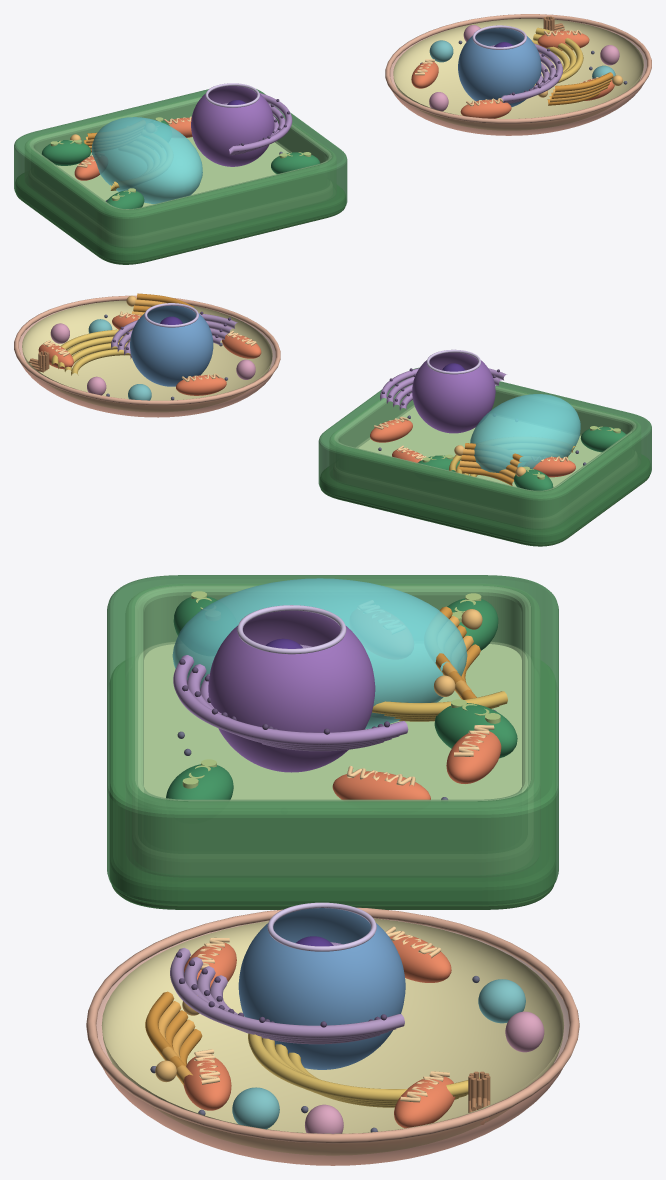
The model's file is both-cells.glb.
3 renders of one model, top to bottom at view 1: azimuth 30°, elevation 25°; view 2: azimuth 150°, elevation 25°; view 3: azimuth 270°, elevation 25°, orthographic. The views are drawn at different scales.
Parts seen in each view (by area): view 1: 植物细胞 · 细胞壁, 植物细胞 · 细胞膜, 动物细胞 · 细胞质, 植物细胞 · 中央液泡, 动物细胞 · 细胞膜, 植物细胞 · 细胞核, 动物细胞 · 细胞核, 植物细胞 · 细胞质, 植物细胞 · 叶绿体, 动物细胞 · 线粒体, 动物细胞 · 高尔基体, 动物细胞 · 粗面内质网 (+5 smaller); view 2: 植物细胞 · 细胞壁, 植物细胞 · 细胞膜, 动物细胞 · 细胞质, 植物细胞 · 中央液泡, 动物细胞 · 细胞膜, 植物细胞 · 细胞核, 动物细胞 · 细胞核, 植物细胞 · 细胞质, 动物细胞 · 线粒体, 植物细胞 · 叶绿体, 植物细胞 · 线粒体, 动物细胞 · 光面内质网 (+6 smaller); view 3: 植物细胞 · 细胞壁, 植物细胞 · 细胞膜, 动物细胞 · 细胞质, 植物细胞 · 细胞质, 动物细胞 · 细胞膜, 植物细胞 · 细胞核, 动物细胞 · 细胞核, 植物细胞 · 中央液泡, 动物细胞 · 线粒体, 植物细胞 · 叶绿体, 动物细胞 · 粗面内质网, 植物细胞 · 粗面内质网 (+8 smaller).
Boxes of the visible parts, bbox=[...] form: 植物细胞 · 细胞壁: bbox=[14, 89, 347, 264]; 植物细胞 · 细胞膜: bbox=[25, 96, 336, 247]; 动物细胞 · 细胞质: bbox=[393, 18, 643, 130]; 植物细胞 · 中央液泡: bbox=[91, 117, 202, 203]; 动物细胞 · 细胞膜: bbox=[385, 14, 651, 135]; 植物细胞 · 细胞核: bbox=[191, 83, 274, 166]; 动物细胞 · 细胞核: bbox=[458, 25, 541, 107]; 植物细胞 · 细胞质: bbox=[56, 137, 291, 206]; 植物细胞 · 叶绿体: bbox=[41, 117, 320, 208]; 动物细胞 · 线粒体: bbox=[411, 30, 614, 118]; 动物细胞 · 高尔基体: bbox=[538, 72, 622, 105]; 动物细胞 · 粗面内质网: bbox=[501, 43, 563, 103]; 植物细胞 · 细胞壁: bbox=[318, 367, 651, 546]; 植物细胞 · 细胞膜: bbox=[329, 384, 640, 529]; 动物细胞 · 细胞质: bbox=[22, 300, 272, 411]; 植物细胞 · 中央液泡: bbox=[470, 394, 580, 479]; 动物细胞 · 细胞膜: bbox=[14, 295, 280, 417]; 植物细胞 · 细胞核: bbox=[412, 349, 495, 433]; 动物细胞 · 细胞核: bbox=[130, 303, 213, 386]; 植物细胞 · 细胞质: bbox=[356, 405, 601, 487]; 动物细胞 · 线粒体: bbox=[38, 311, 261, 395]; 植物细胞 · 叶绿体: bbox=[418, 426, 626, 490]; 植物细胞 · 线粒体: bbox=[370, 416, 575, 477]; 动物细胞 · 光面内质网: bbox=[51, 329, 132, 375]; 植物细胞 · 细胞壁: bbox=[107, 575, 558, 909]; 植物细胞 · 细胞膜: bbox=[125, 584, 540, 877]; 动物细胞 · 细胞质: bbox=[101, 918, 564, 1155]; 植物细胞 · 细胞质: bbox=[138, 642, 527, 799]; 动物细胞 · 细胞膜: bbox=[86, 907, 579, 1165]; 植物细胞 · 细胞核: bbox=[208, 605, 375, 772]; 动物细胞 · 细胞核: bbox=[238, 902, 405, 1069]; 植物细胞 · 中央液泡: bbox=[172, 578, 467, 729]; 动物细胞 · 线粒体: bbox=[183, 926, 455, 1128]; 植物细胞 · 叶绿体: bbox=[166, 591, 517, 799]; 动物细胞 · 粗面内质网: bbox=[170, 947, 404, 1044]; 植物细胞 · 粗面内质网: bbox=[173, 655, 408, 751].
Bounding box in the file's own units: 12.34 × 2.11 × 4.55.
